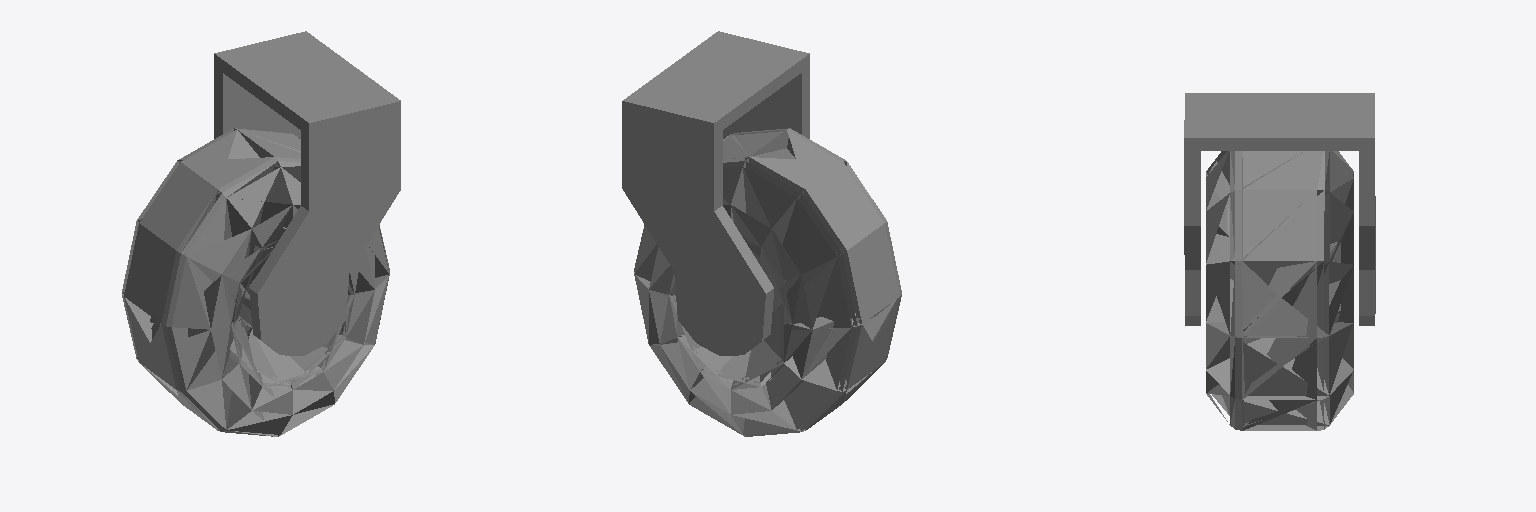
Rendered from llanta4.obj.
3 renders of one model, left to right at view 1: azimuth 30°, elevation 25°; view 2: azimuth 150°, elevation 25°; view 3: azimuth 270°, elevation 25°, orthographic.
Visible parts, largest first — view 1: Cylinder03, Box004; view 2: Cylinder03, Box004; view 3: Cylinder03, Box004.
Boxes of the visible parts, x1=… form: Cylinder03: x1=122, y1=128, x2=389, y2=436; Box004: x1=214, y1=31, x2=400, y2=355; Cylinder03: x1=634, y1=128, x2=901, y2=436; Box004: x1=622, y1=31, x2=809, y2=355; Cylinder03: x1=1206, y1=151, x2=1353, y2=430; Box004: x1=1184, y1=93, x2=1375, y2=325.
Bounding box in the file's own units: 3.06 × 4.29 × 2.24.